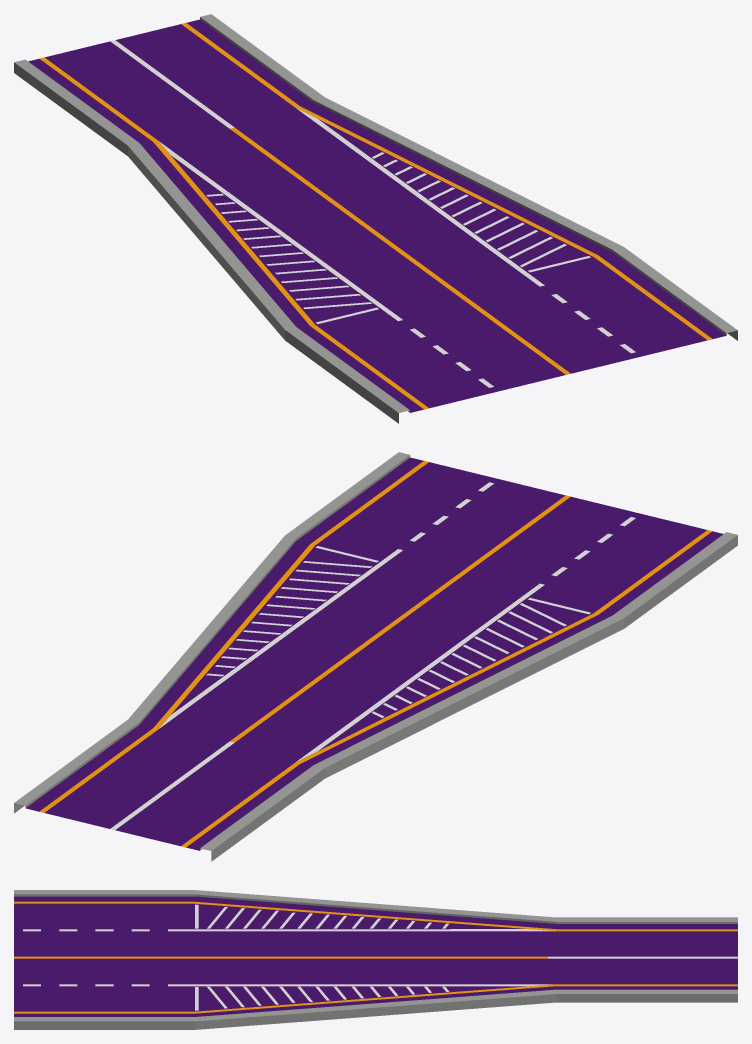
File: Road_C_2L_2_3.fbx
3 renders of one model, top to bottom at view 1: azimuth 30°, elevation 25°; view 2: azimuth 150°, elevation 25°; view 3: azimuth 270°, elevation 25°, orthographic. The views are drawn at different scales.
Parts seen in each view (by area): view 1: Road_C_2L_2_3; view 2: Road_C_2L_2_3; view 3: Road_C_2L_2_3.
Boxes of the visible parts, x1,y1,x2,y2 form: Road_C_2L_2_3: [14, 14, 737, 423]; Road_C_2L_2_3: [14, 452, 737, 861]; Road_C_2L_2_3: [14, 890, 737, 1029].
Size of the model in its own units: 1375 by 41.48 by 3200.
